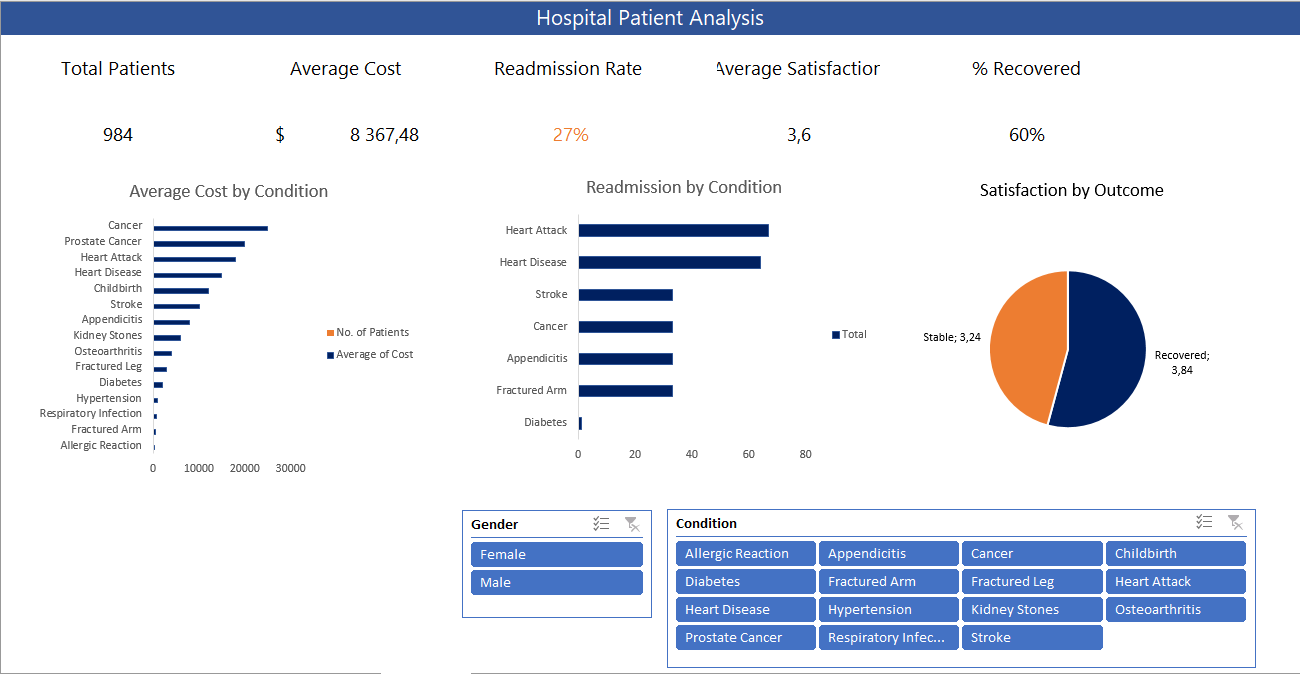

The page's visual inventory and layout, read from the dashboard file:
{"tool":"powerbi","page":{"name":"Condition Analysis","canvas":[1280,720],"ordinal":1},"visuals":[{"type":"shape","box":[1034.9,90.6,221.1,299.7],"z":0},{"type":"shape","box":[0,0,1280,59.8],"z":1000},{"type":"textbox","box":[0,0,235.3,59.8],"z":2000},{"type":"clusteredBarChart","fields":{"Y":["_Measures.Avg Cost"],"Category":["hospital data analysis.Condition_Name"]},"box":[13.3,170.1,627.4,257.9],"z":3000},{"type":"barChart","fields":{"Y":["_Measures.Readmission Rate %"],"Category":["hospital data analysis.Condition_Name"]},"box":[701.8,442.6,554.3,257.9],"z":4000},{"type":"barChart","fields":{"Y":["_Measures.Avg Length of Stay"],"Category":["hospital data analysis.Condition_Name"]},"box":[13.3,442.6,627.4,257.9],"z":5000},{"type":"tableEx","fields":{"Values":["hospital data analysis.Condition_Name","_Measures.Condition Cost Rank"]},"box":[701.9,215.8,285,211.8],"z":6000},{"type":"card","title":"No. of patients","fields":{"Values":["_Measures.Total Patients"]},"box":[439.5,90.6,159.8,79.9],"z":7000},{"type":"card","title":"Average cost","fields":{"Values":["_Measures.Avg Cost"]},"box":[629.3,90.6,159.8,79.9],"z":8000},{"type":"card","title":"Average LOS","fields":{"Values":["_Measures.Avg Length of Stay"]},"box":[819.1,90.6,159.8,79.9],"z":9000},{"type":"slicer","fields":{"Values":["hospital data analysis.Condition_Name"]},"box":[1034.9,90.6,221.1,63.9],"z":10000},{"type":"slicer","fields":{"Values":["hospital data analysis.Gender"]},"box":[1034.9,177.1,221.1,63.9],"z":11000},{"type":"slicer","fields":{"Values":["hospital data analysis.Cost_Tier"]},"box":[1034.9,263.7,221.1,126.5],"z":12000},{"type":"shape","box":[0,48,1276,42.6],"z":13000}]}

Visuals, with their boxes on the page's 1280x720 design canvas (x1, y1, x2, y2). These are canvas units, not pixel positions in the 1300x674 screenshot, which may show the page scaled, cropped or inside an application window:
shape: <region>1035, 91, 1256, 390</region>
shape: <region>0, 0, 1280, 60</region>
textbox: <region>0, 0, 235, 60</region>
clusteredBarChart - _Measures.Avg Cost x hospital data analysis.Condition_Name: <region>13, 170, 641, 428</region>
barChart - _Measures.Readmission Rate % x hospital data analysis.Condition_Name: <region>702, 443, 1256, 700</region>
barChart - _Measures.Avg Length of Stay x hospital data analysis.Condition_Name: <region>13, 443, 641, 700</region>
tableEx - hospital data analysis.Condition_Name x _Measures.Condition Cost Rank: <region>702, 216, 987, 428</region>
"No. of patients" card: <region>440, 91, 599, 170</region>
"Average cost" card: <region>629, 91, 789, 170</region>
"Average LOS" card: <region>819, 91, 979, 170</region>
slicer - hospital data analysis.Condition_Name: <region>1035, 91, 1256, 154</region>
slicer - hospital data analysis.Gender: <region>1035, 177, 1256, 241</region>
slicer - hospital data analysis.Cost_Tier: <region>1035, 264, 1256, 390</region>
shape: <region>0, 48, 1276, 91</region>
